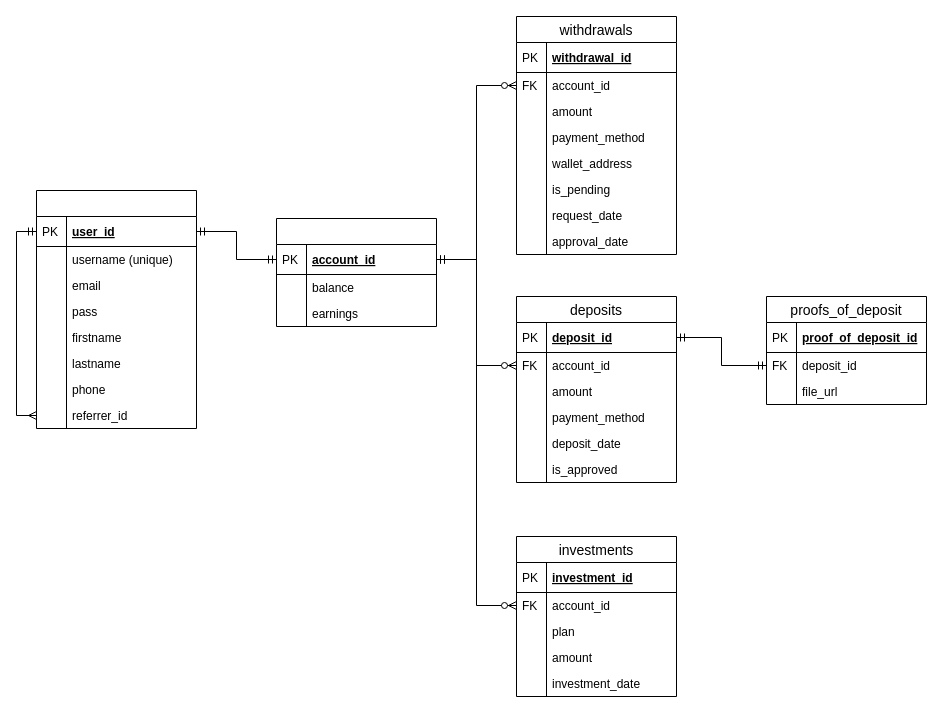
This 943x713 diagram has some shape labels left out. Here are the shapes that lost their labels. From the top down, the box of each, then its label:
(276, 218, 436, 326): accounts
(36, 190, 196, 428): users
